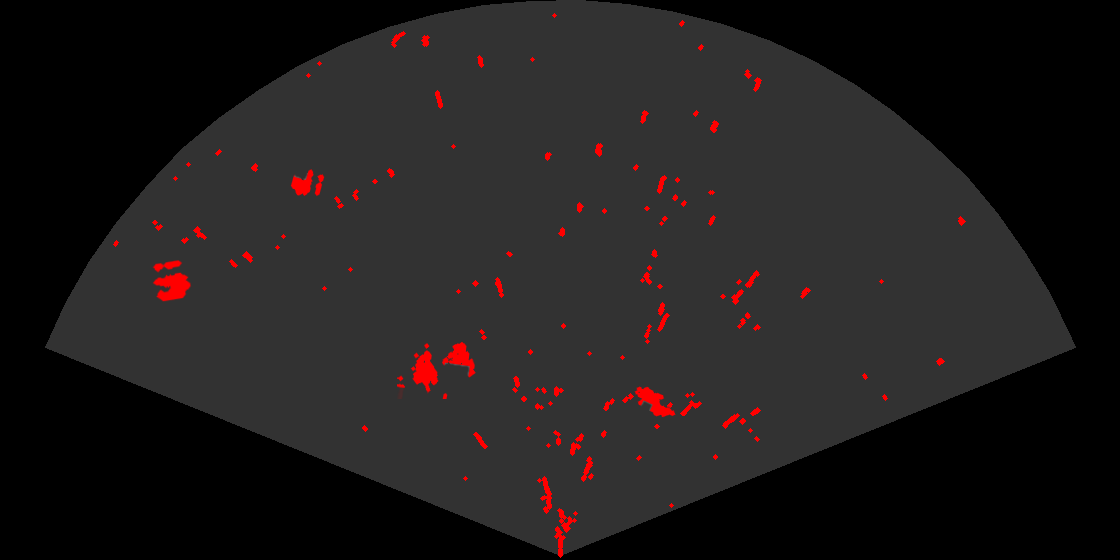AUV: (633, 385, 677, 419)
ball: (151, 259, 193, 303), (289, 168, 326, 198)
cage: (397, 340, 477, 399)
